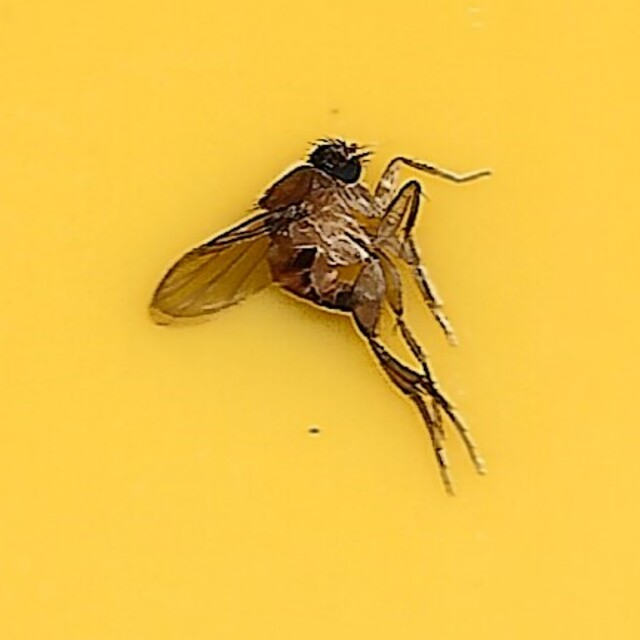Brachycera: (148, 138, 492, 502)
